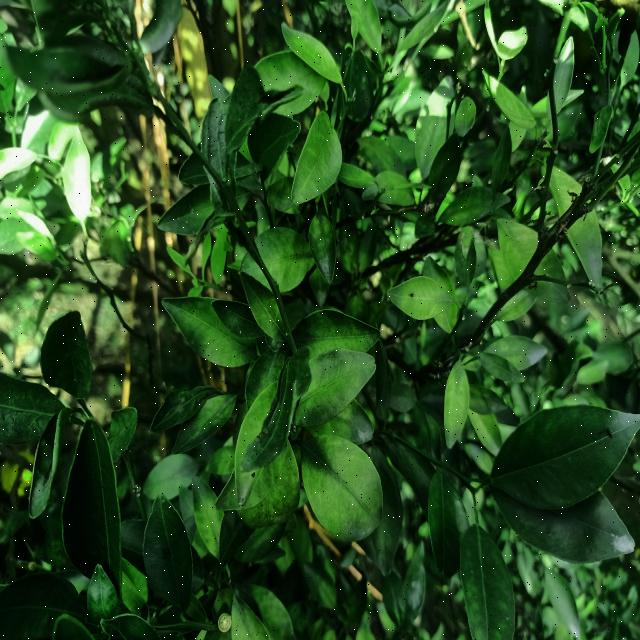blackspot: (292, 348, 371, 422), (287, 116, 339, 202), (245, 278, 288, 342), (193, 482, 226, 551), (233, 602, 263, 640)
